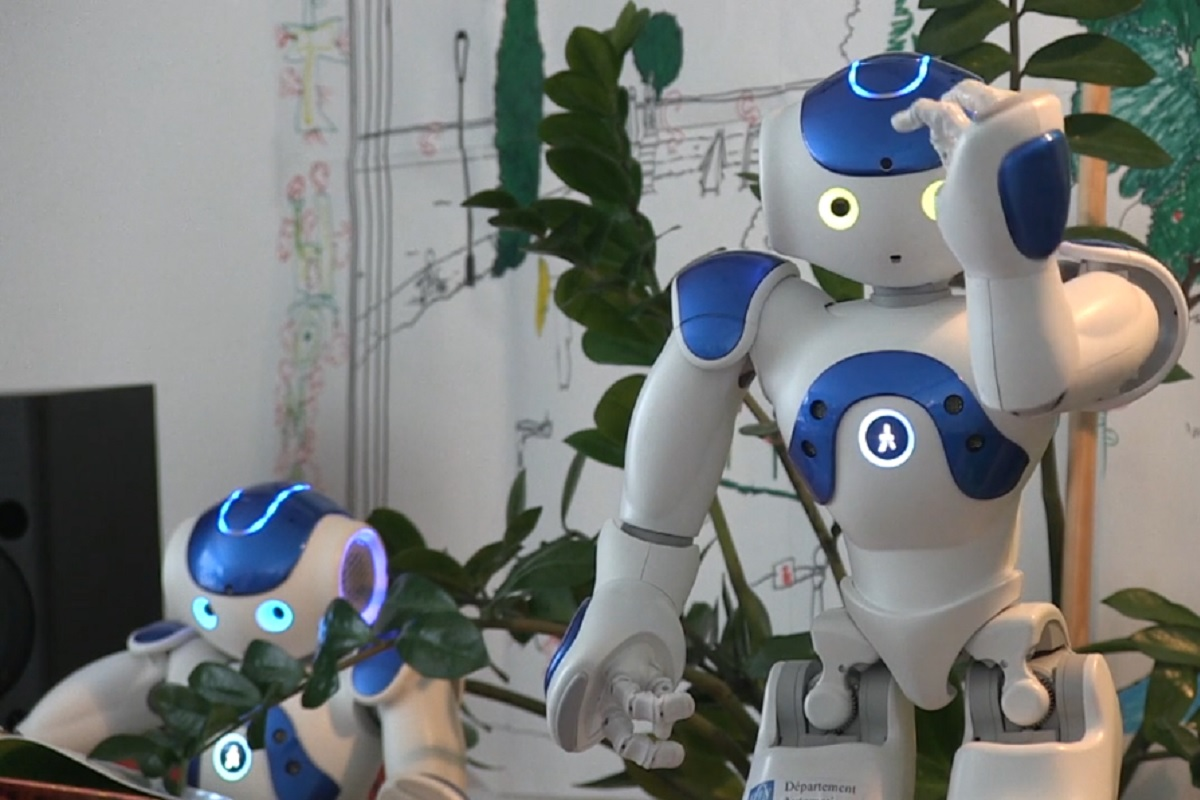nao: (524, 8, 1151, 800), (16, 472, 464, 800)
